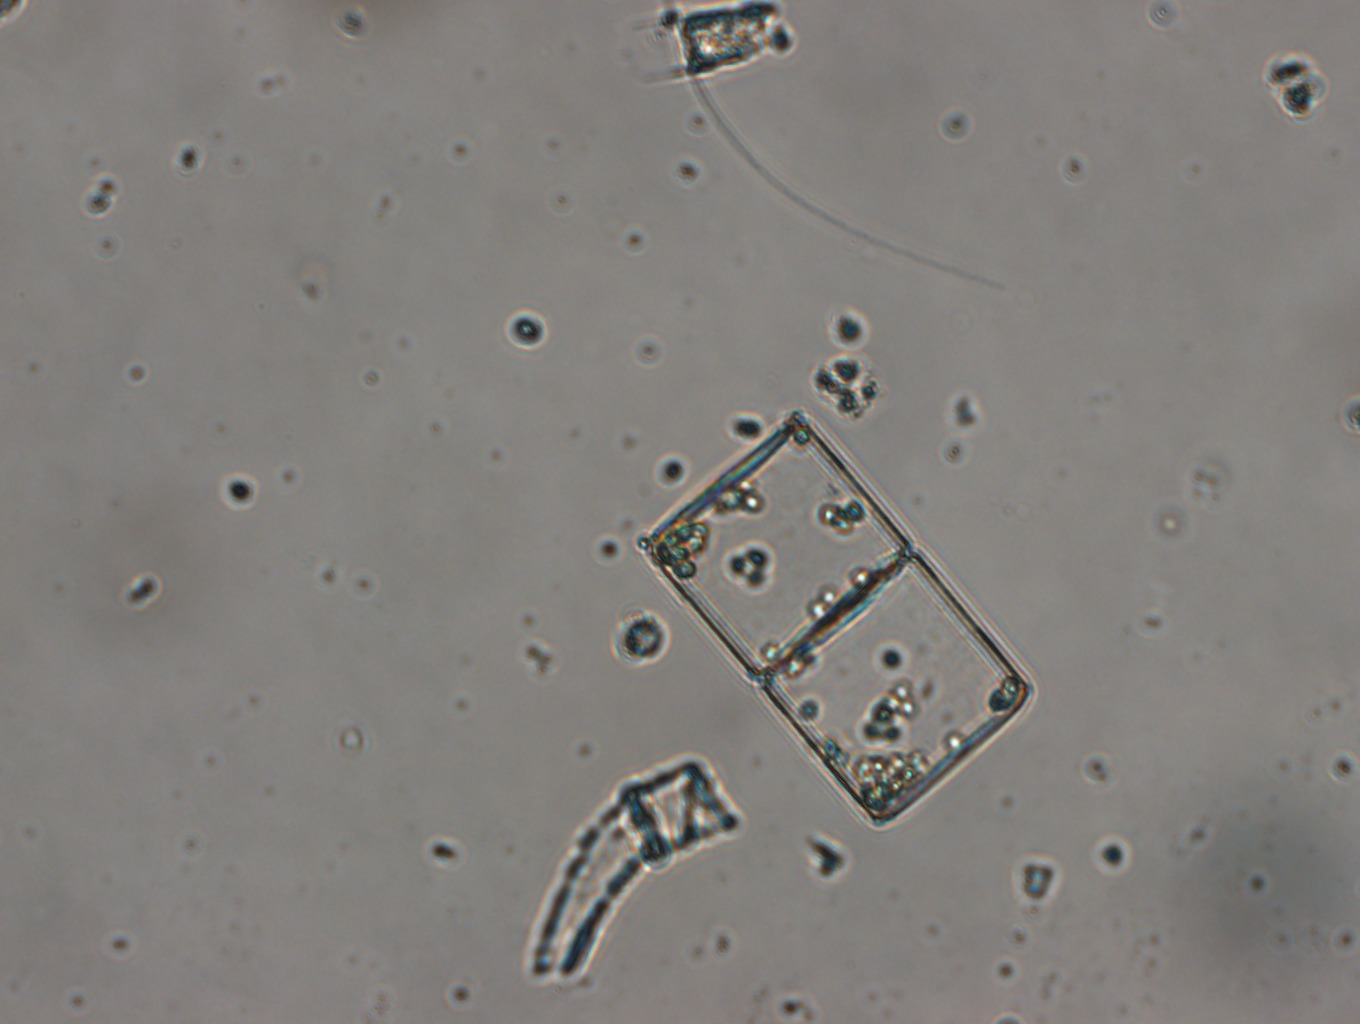guinardia flaccida: (628, 406, 1044, 834)
